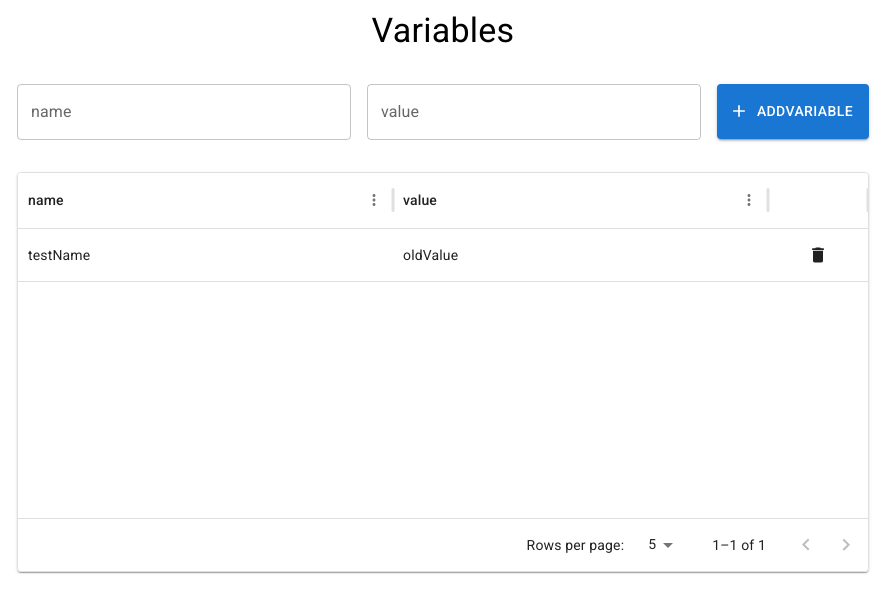
Test: VariablesContent Component › updates an existing variable
This screenshot has width=887, height=591.
Type "testName" into the field labelled "name".
click(184, 112); type("testName")  # box left=17, top=84, right=351, bottom=140
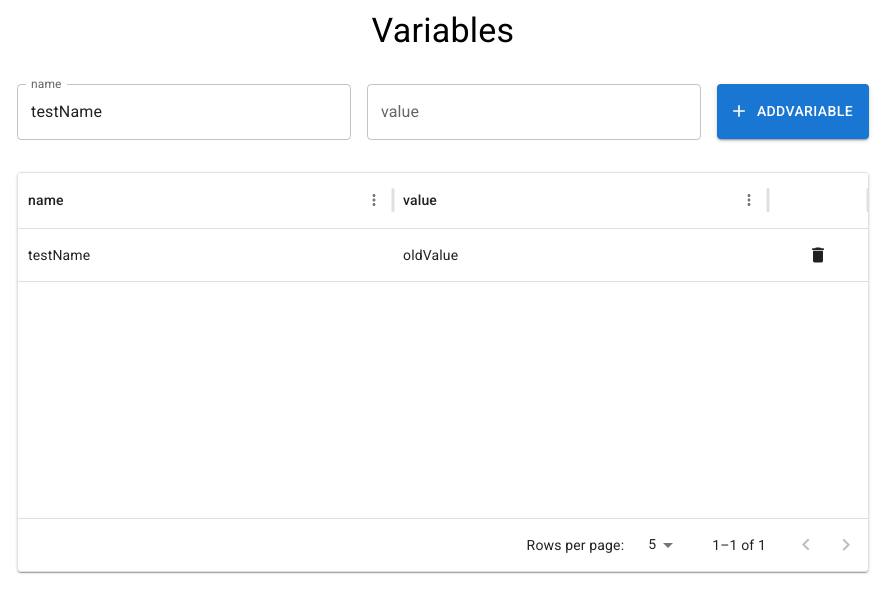
Type "newValue" into the field labelled "value".
click(534, 112); type("newValue")  # box left=367, top=84, right=701, bottom=140
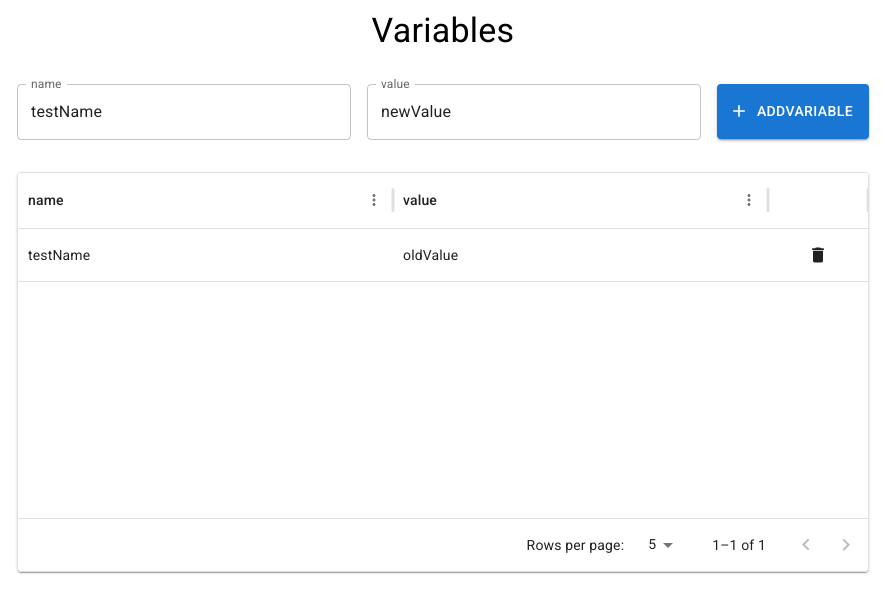
Click the button "addVariable".
click(793, 112)  # box left=717, top=84, right=869, bottom=139
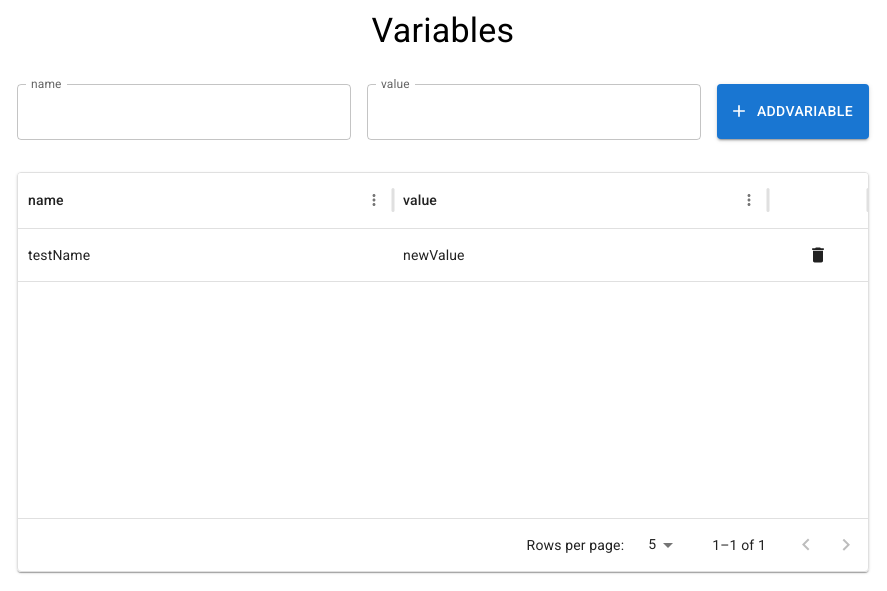
Now the text "newValue" is shown, box left=403, top=247, right=465, bottom=263
